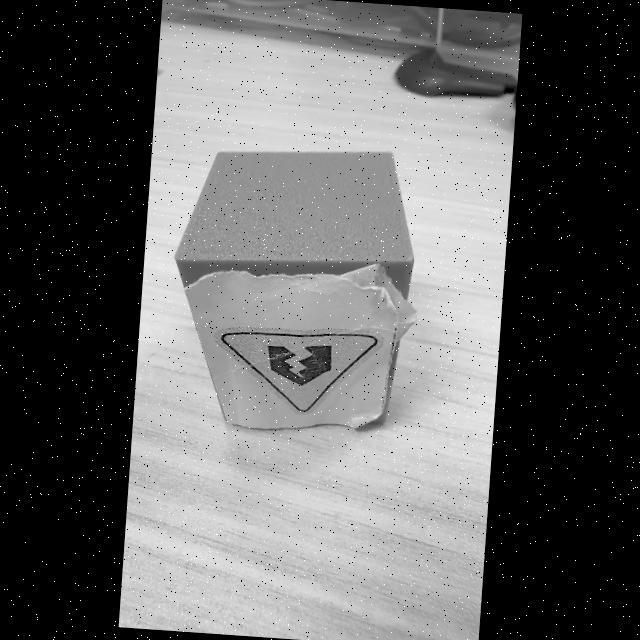Earthquake: (215, 328, 384, 413)
